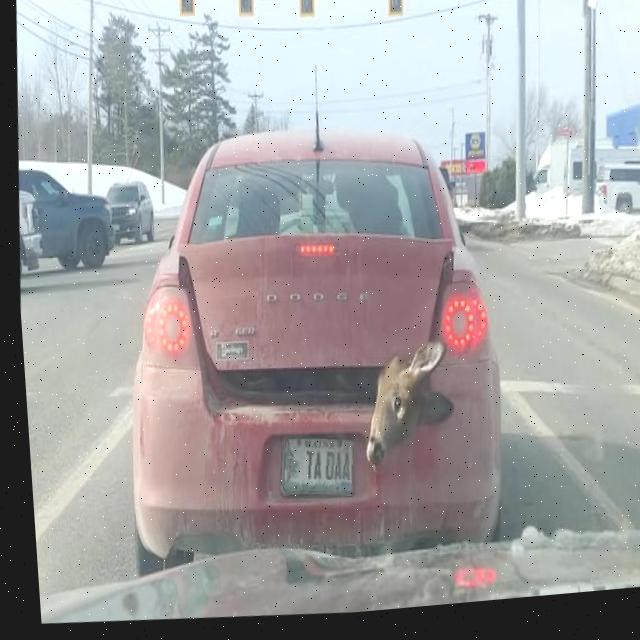LicensePlate: (274, 442, 347, 502)
